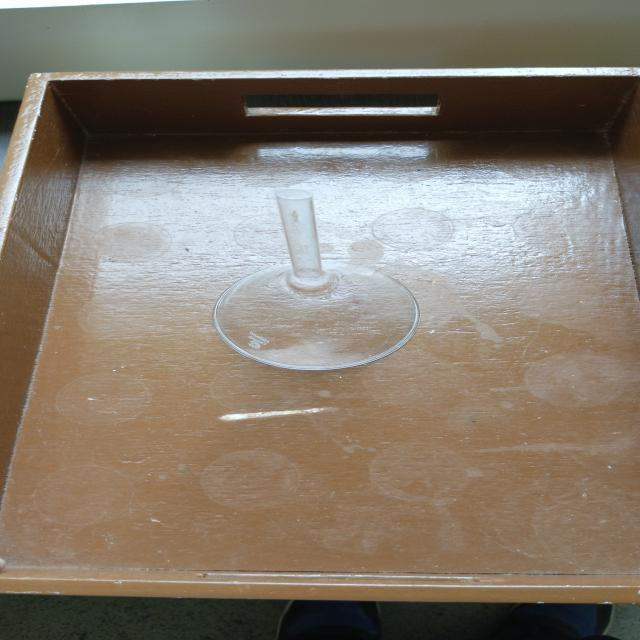funnel: (190, 188, 434, 372)
